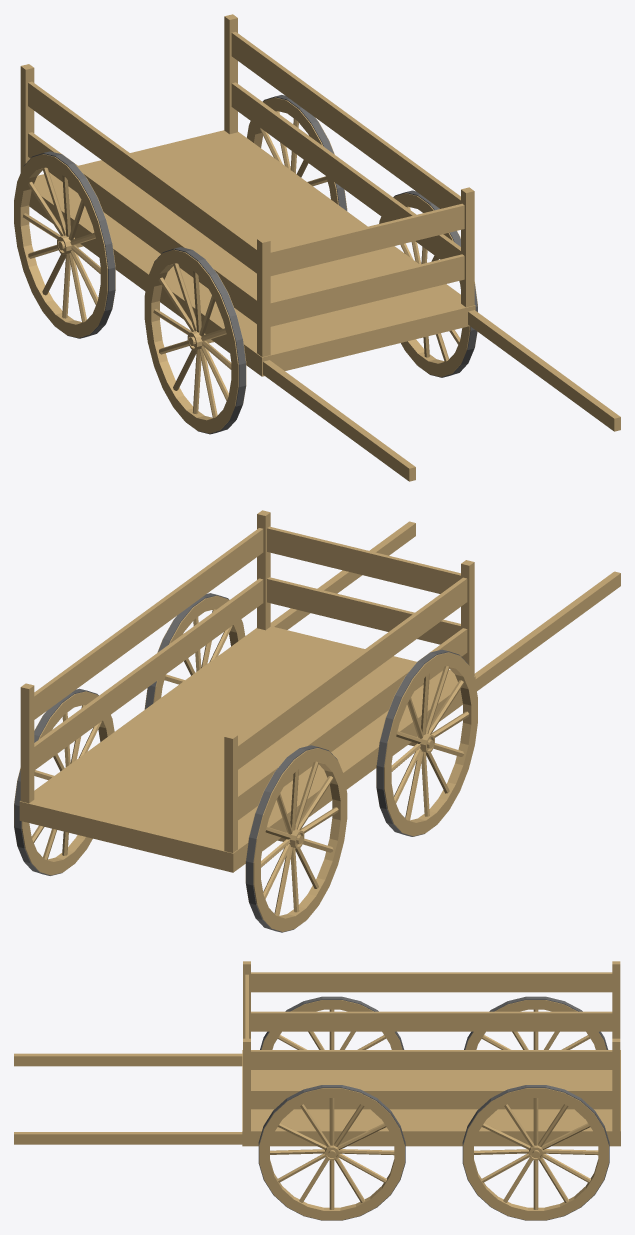
The model's file is Cart_2_4.fbx.
3 views of the same model, one above another, from view 1: azimuth 30°, elevation 25°; view 2: azimuth 150°, elevation 25°; view 3: azimuth 270°, elevation 25° (orthographic). The views are drawn at different scales.
Parts seen in each view (by area): view 1: Cart_2_4, Cart (×4); view 2: Cart_2_4, Cart (×4); view 3: Cart_2_4, Cart (×4).
Boxes of the visible parts, left/top/right/bottom form: Cart_2_4: left=20, top=14, right=620, bottom=481; Cart (×4): left=14, top=95, right=477, bottom=434; Cart_2_4: left=19, top=510, right=620, bottom=872; Cart (×4): left=14, top=593, right=477, bottom=932; Cart_2_4: left=14, top=961, right=620, bottom=1146; Cart (×4): left=258, top=996, right=609, bottom=1220.
Bounding box in the file's own units: 69.75 × 61.74 × 195.
